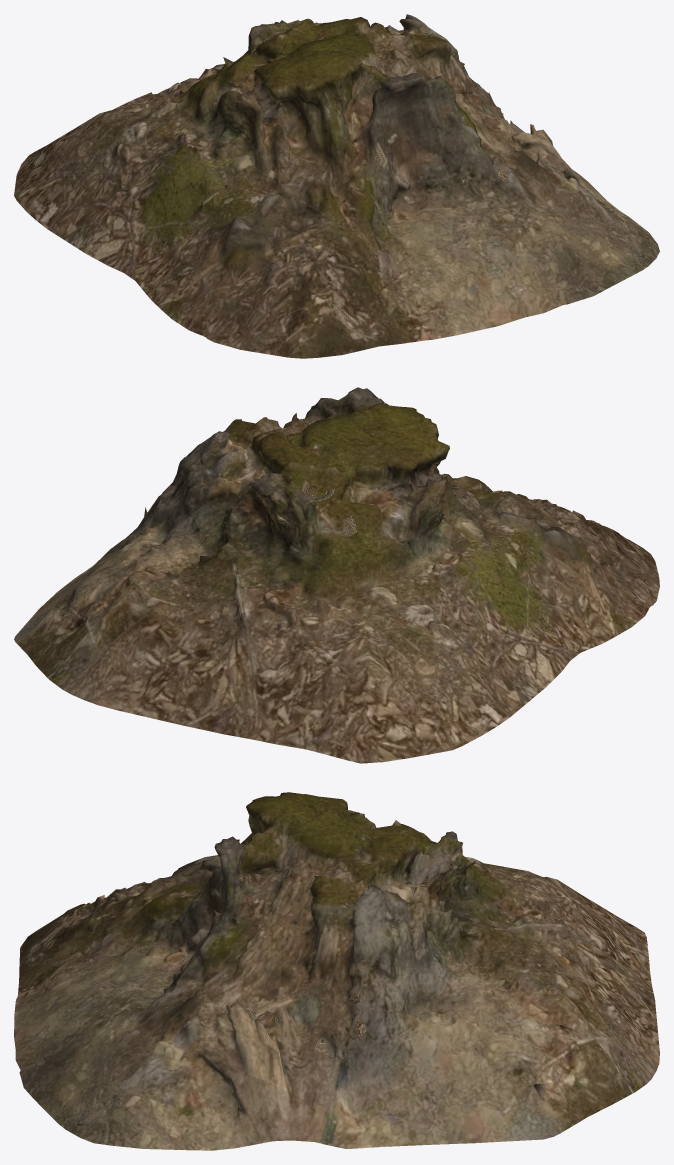
Rendered from tree_stump_01.glb.
3 views of the same model, one above another, from view 1: azimuth 30°, elevation 25°; view 2: azimuth 150°, elevation 25°; view 3: azimuth 270°, elevation 25° (orthographic). The views are drawn at different scales.
Parts seen in each view (by area): view 1: tree_stump_01; view 2: tree_stump_01; view 3: tree_stump_01.
Part boxes in pixels (left/top/right/bottom): tree_stump_01: left=14, top=14, right=659, bottom=358; tree_stump_01: left=14, top=387, right=659, bottom=763; tree_stump_01: left=14, top=792, right=659, bottom=1150.
Bounding box in the file's own units: 1.43 × 0.5725 × 1.59.
1 material, 1 textured.
